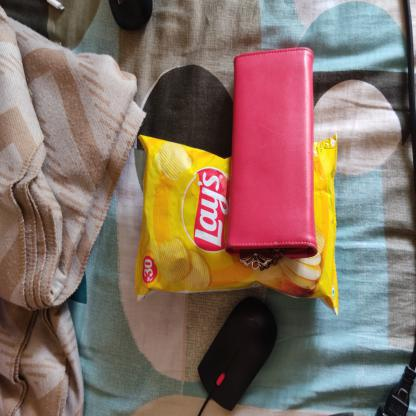classicsalted: (134, 132, 338, 317)
